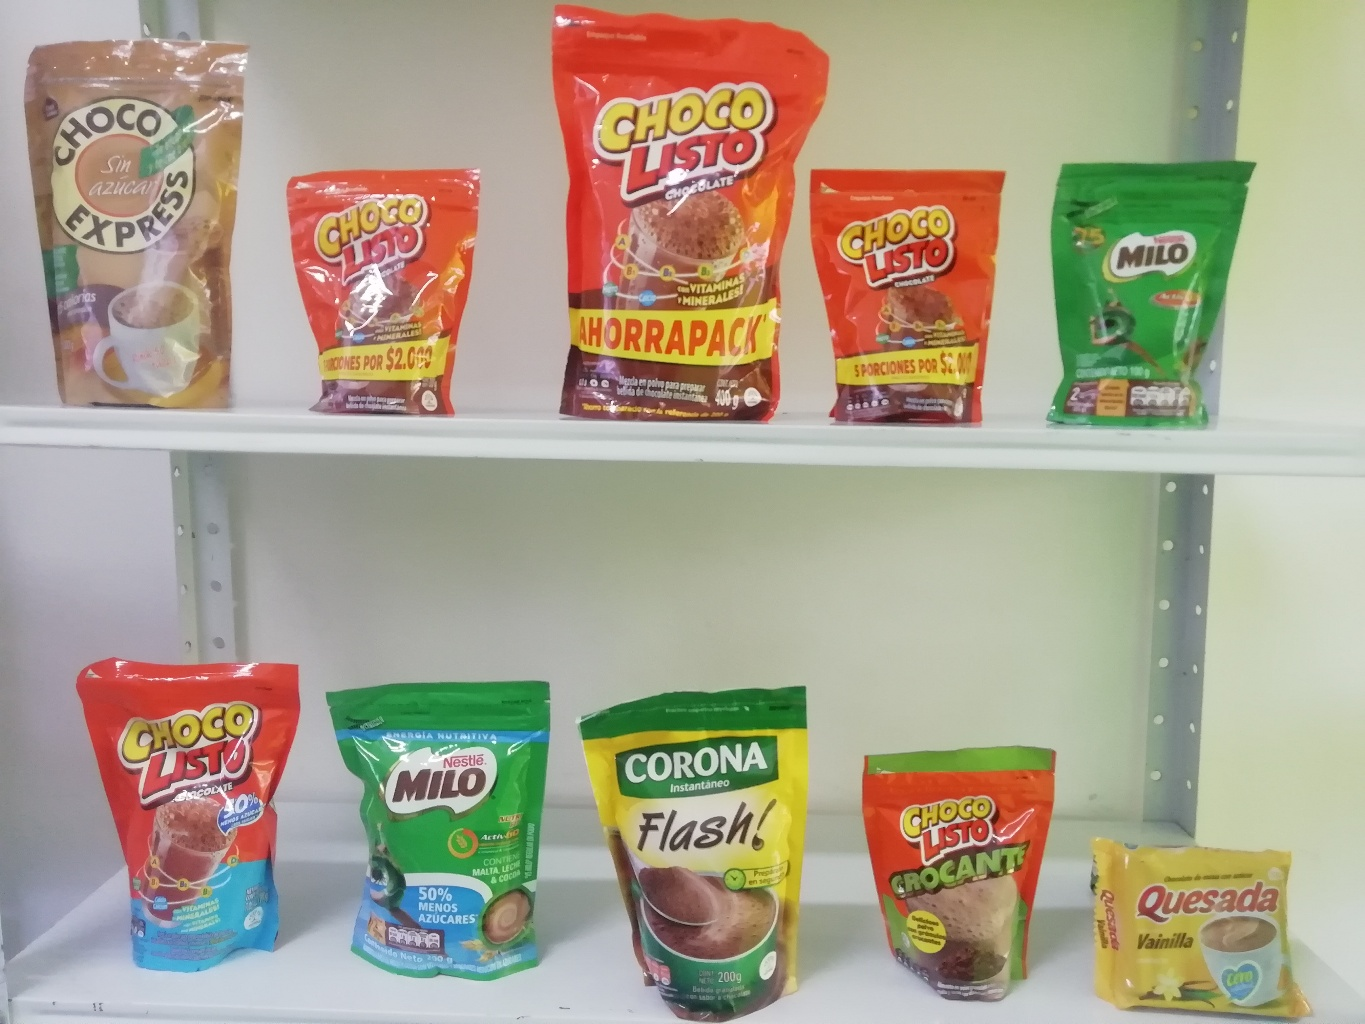COL0170102DYP10000: (863, 746, 1057, 1002)
COL0170103DYP10000: (281, 166, 480, 415)
COL0170103DYP40000: (553, 1, 830, 419)
COL0170104DYP20000: (69, 648, 303, 973)
COL0170203DYP10000: (1049, 160, 1253, 433)
COL0170205DYP20000: (322, 677, 552, 982)
